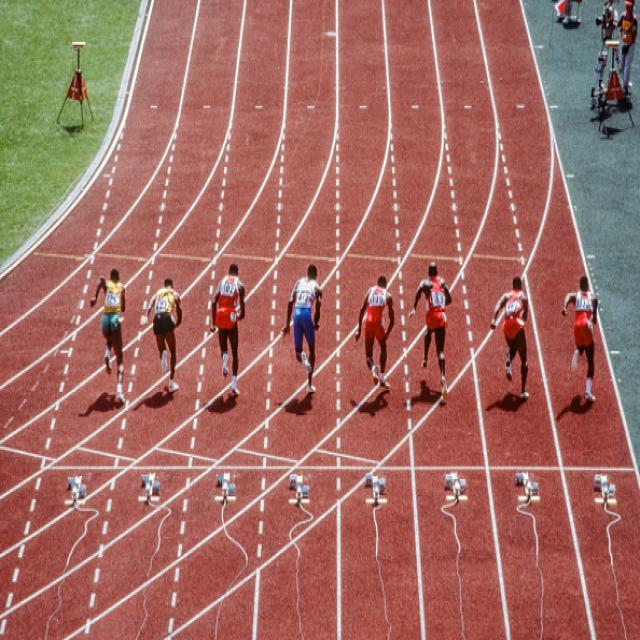Person: (409, 263, 452, 401), (282, 264, 322, 394), (89, 268, 127, 402), (492, 279, 532, 398), (561, 275, 598, 402), (354, 276, 394, 387), (212, 263, 245, 395), (146, 276, 183, 392)
